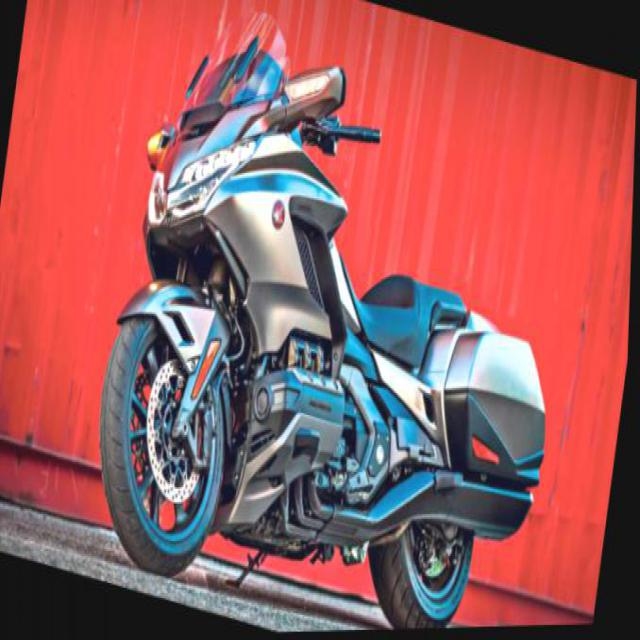Gold Wing: (83, 0, 593, 637)
